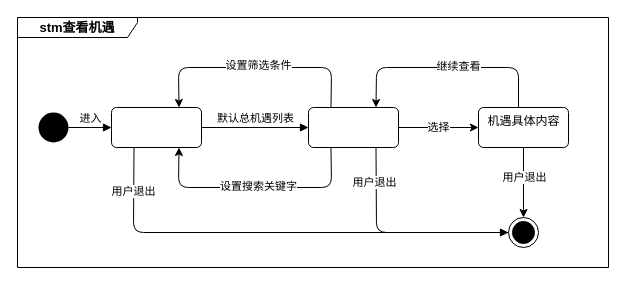
The diagram is 626 pixels wide and 285 high, and some of its shapes have lost their labels. Each missing label, with the centre of its shape:
机遇列表: [353,127]
机遇查看页面: [156,127]
